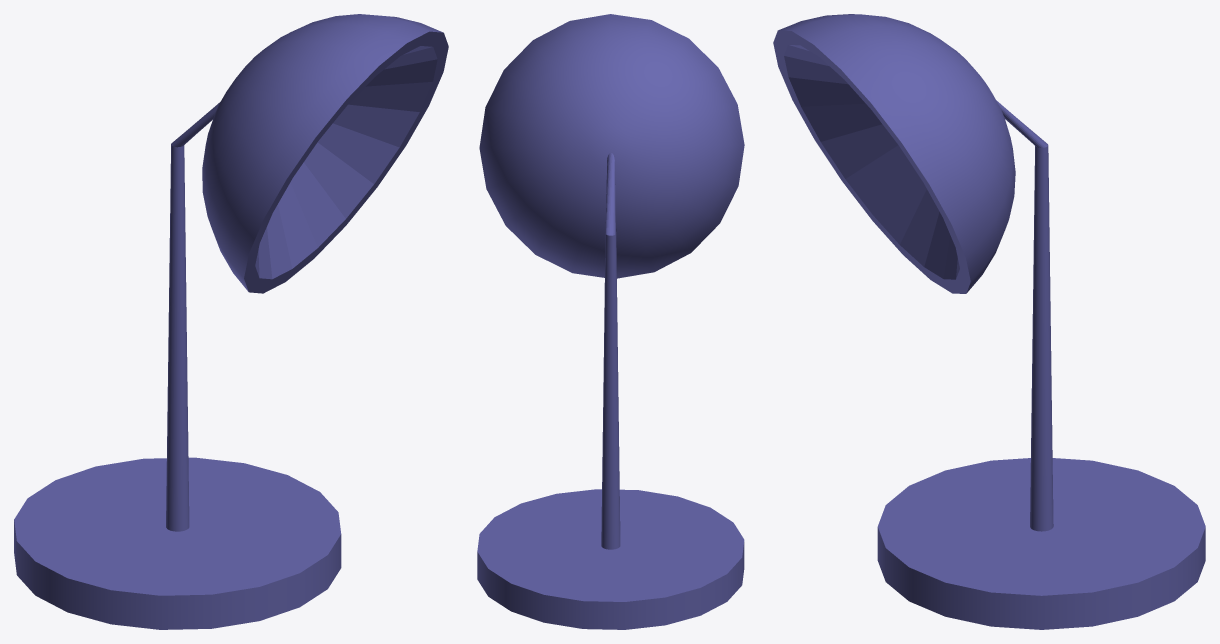
File: Obj_vid_19_lampara_low_poly.fbx
3 renders of one model, left to right at view 1: azimuth 30°, elevation 25°; view 2: azimuth 150°, elevation 25°; view 3: azimuth 270°, elevation 25°, orthographic. The views are drawn at different scales.
Visible parts, largest first — view 1: Obj_vid_19_lampara_low_poly; view 2: Obj_vid_19_lampara_low_poly; view 3: Obj_vid_19_lampara_low_poly.
Boxes of the visible parts, x1,y1,x2,y2 form: Obj_vid_19_lampara_low_poly: (14,14,448,629); Obj_vid_19_lampara_low_poly: (477,14,744,629); Obj_vid_19_lampara_low_poly: (773,14,1205,629).
Size of the model in its own units: 0.2601 by 0.4087 by 0.2773.
